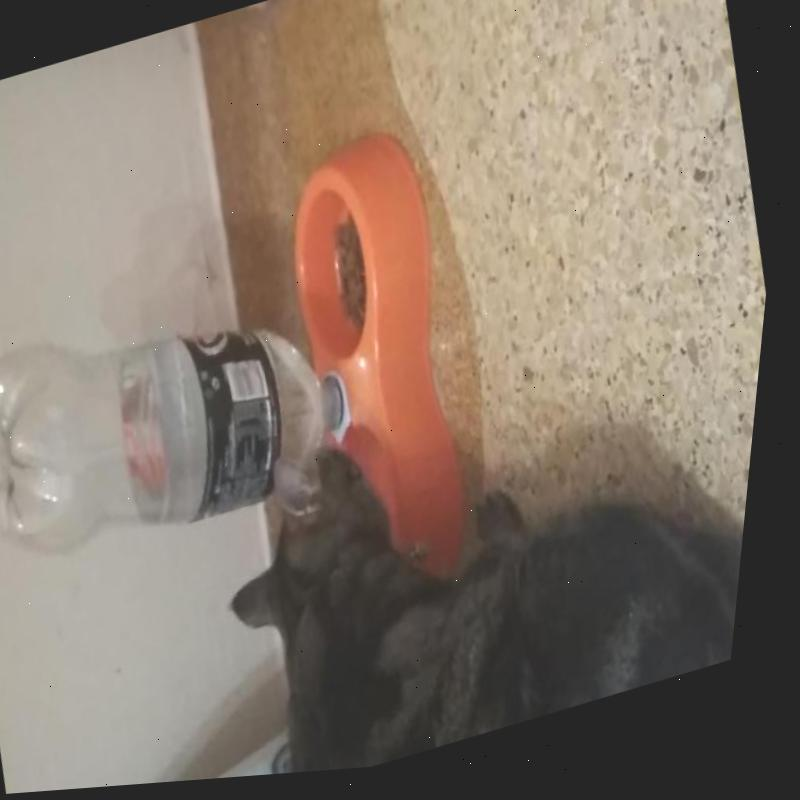botella: (0, 261, 382, 585)
